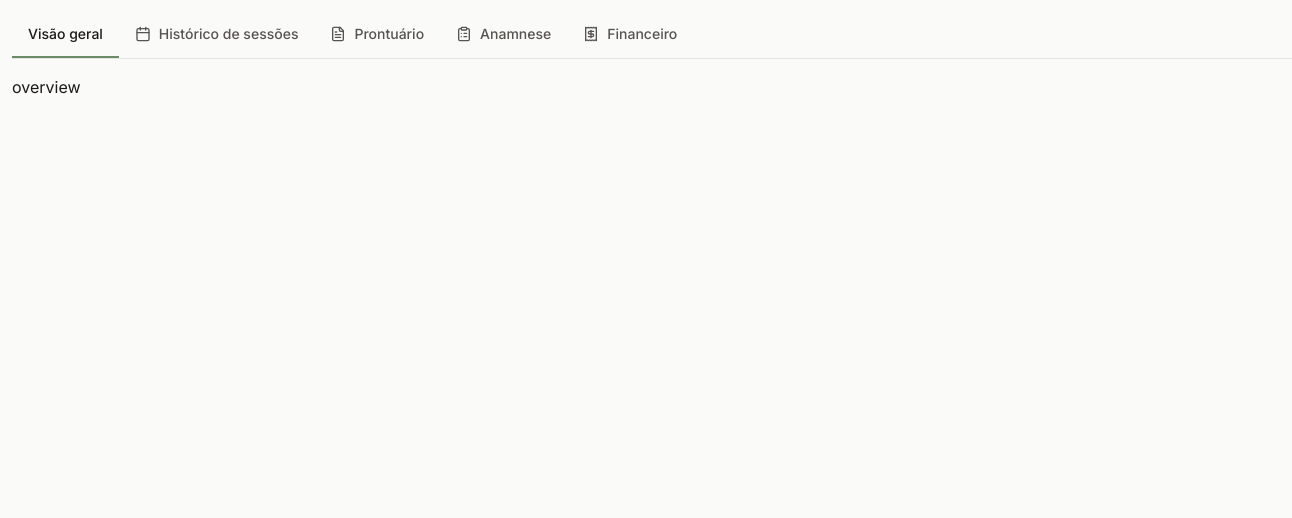
Test: PatientTabs wired with PatientSessionHistory (task 9.3) › renders the session history (summary + list) on the sessions tab, not the placeholder
The width and height of the screenshot is (1292, 518).
What coordinates should you click on to do the following:
click the tab with test id "patient-tab-sessions"
I would click on:
 (217, 35)
Its box is [119, 12, 314, 58].
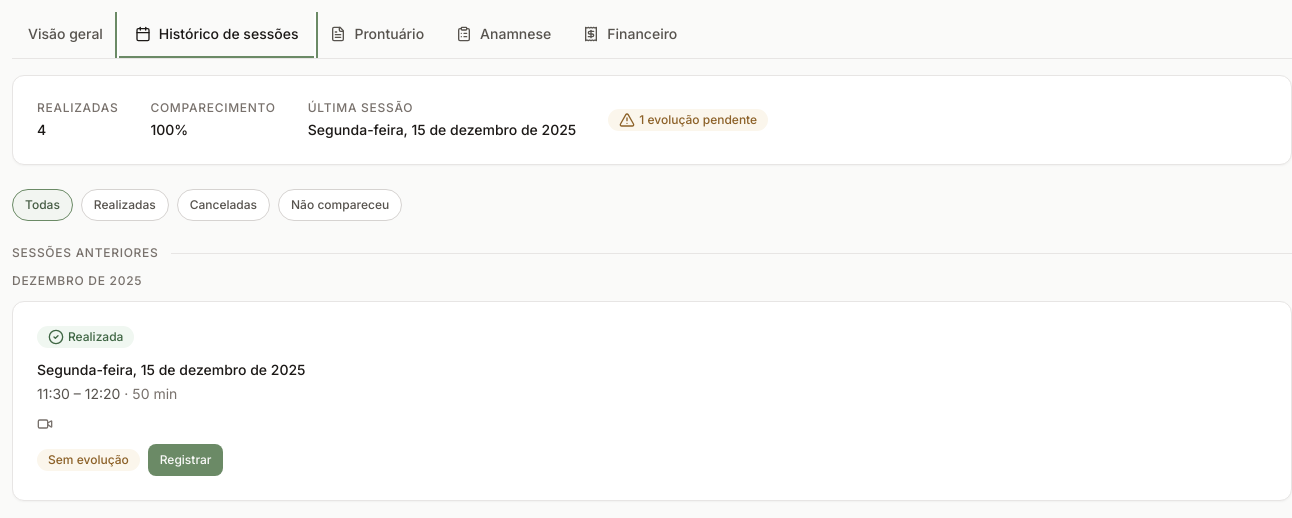
Expected: the element with test id "patient-session-history" is shown
Expected: the element with test id "session-history-list" is shown, [12, 273, 1291, 501]
